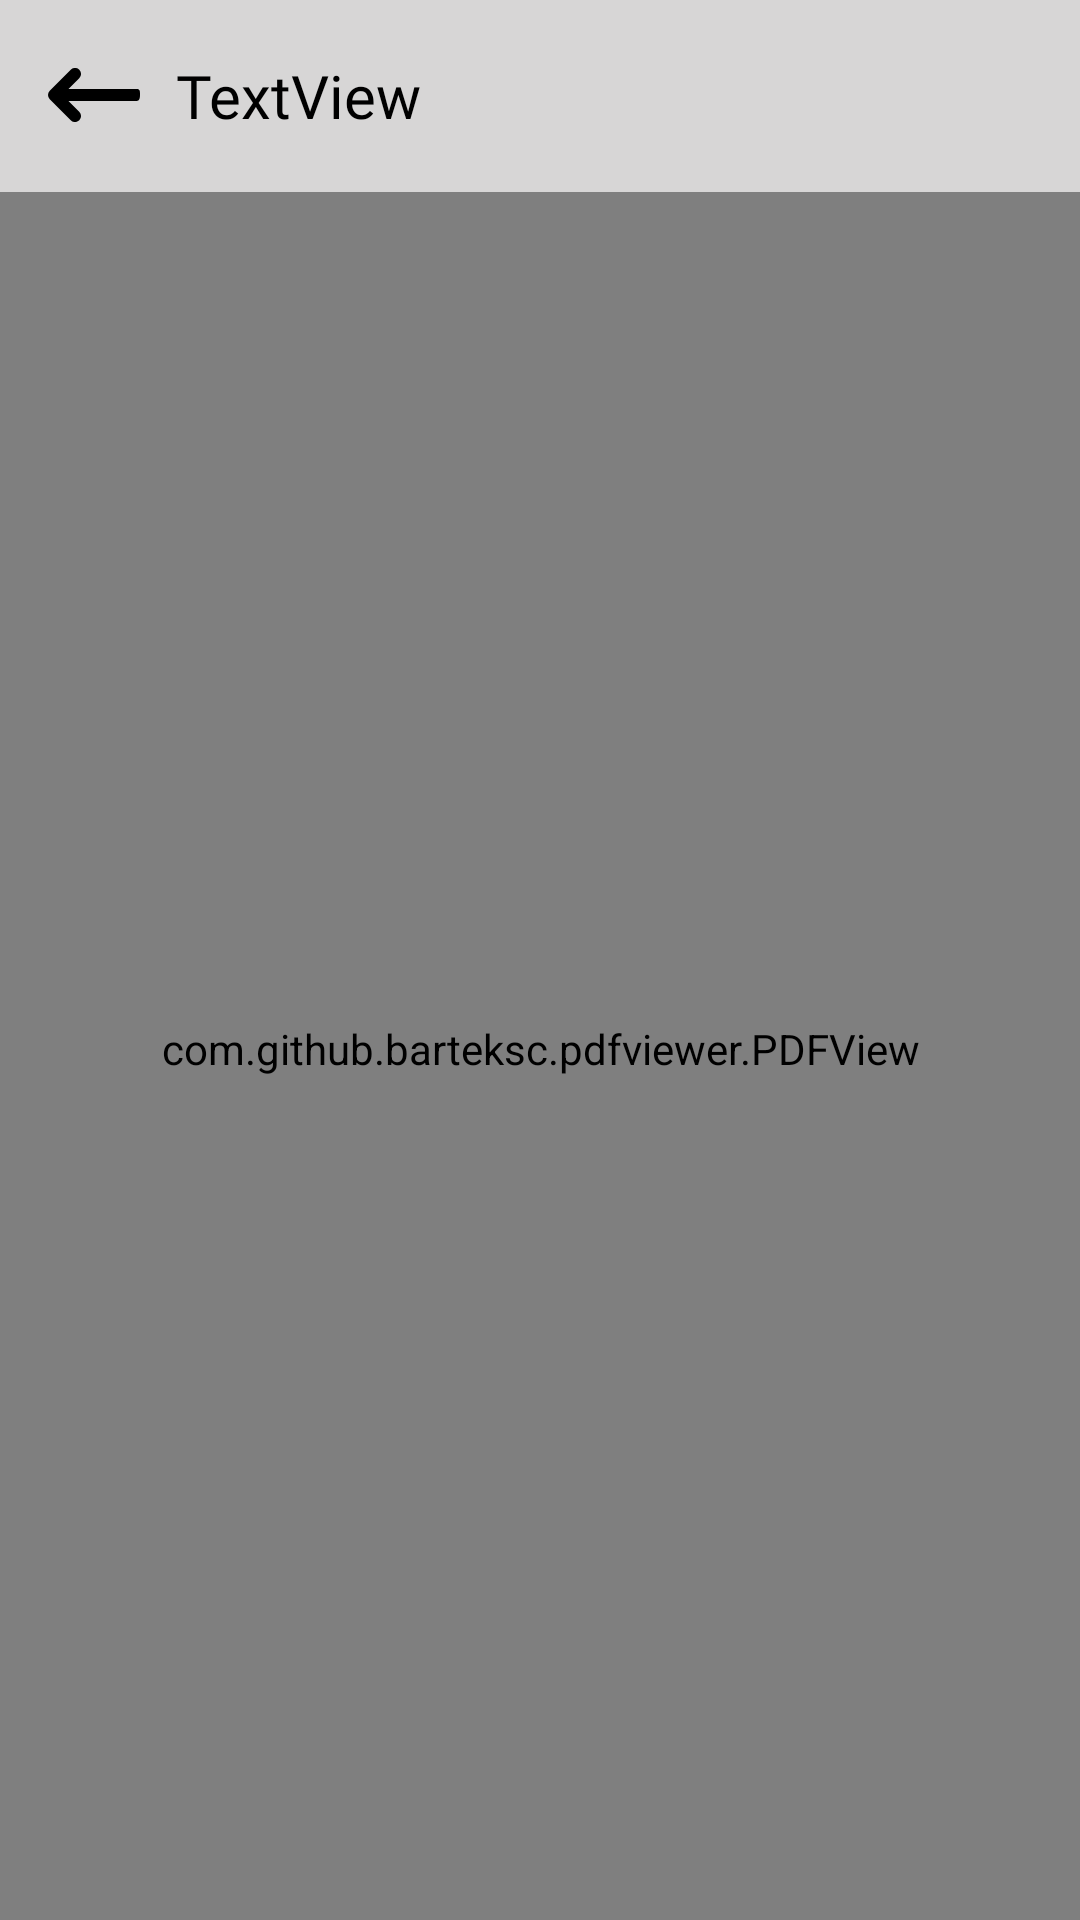

Where icons sit on this 1080 × 1920 app screen, as [x1, y1, x2, y2]:
backicon: [48, 68, 140, 122]
